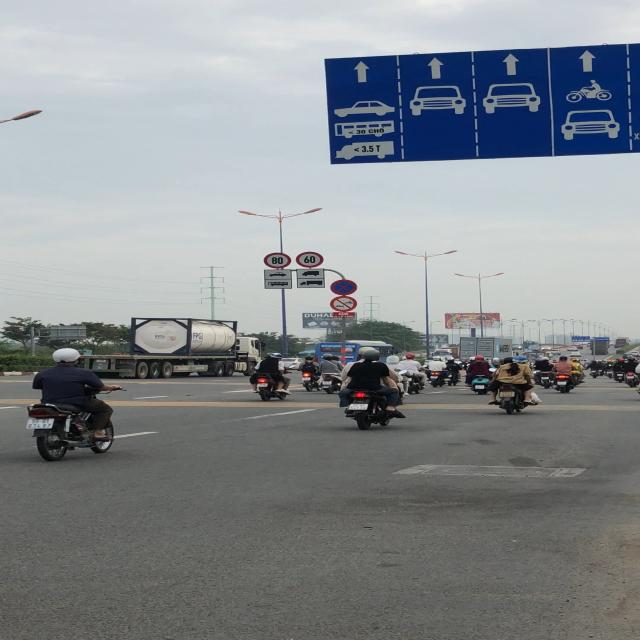Bien bao cam dung xe va do xe: (329, 279, 359, 295)
Bien bao toc do toi da cho phep: (294, 250, 324, 269), (263, 250, 291, 269)
